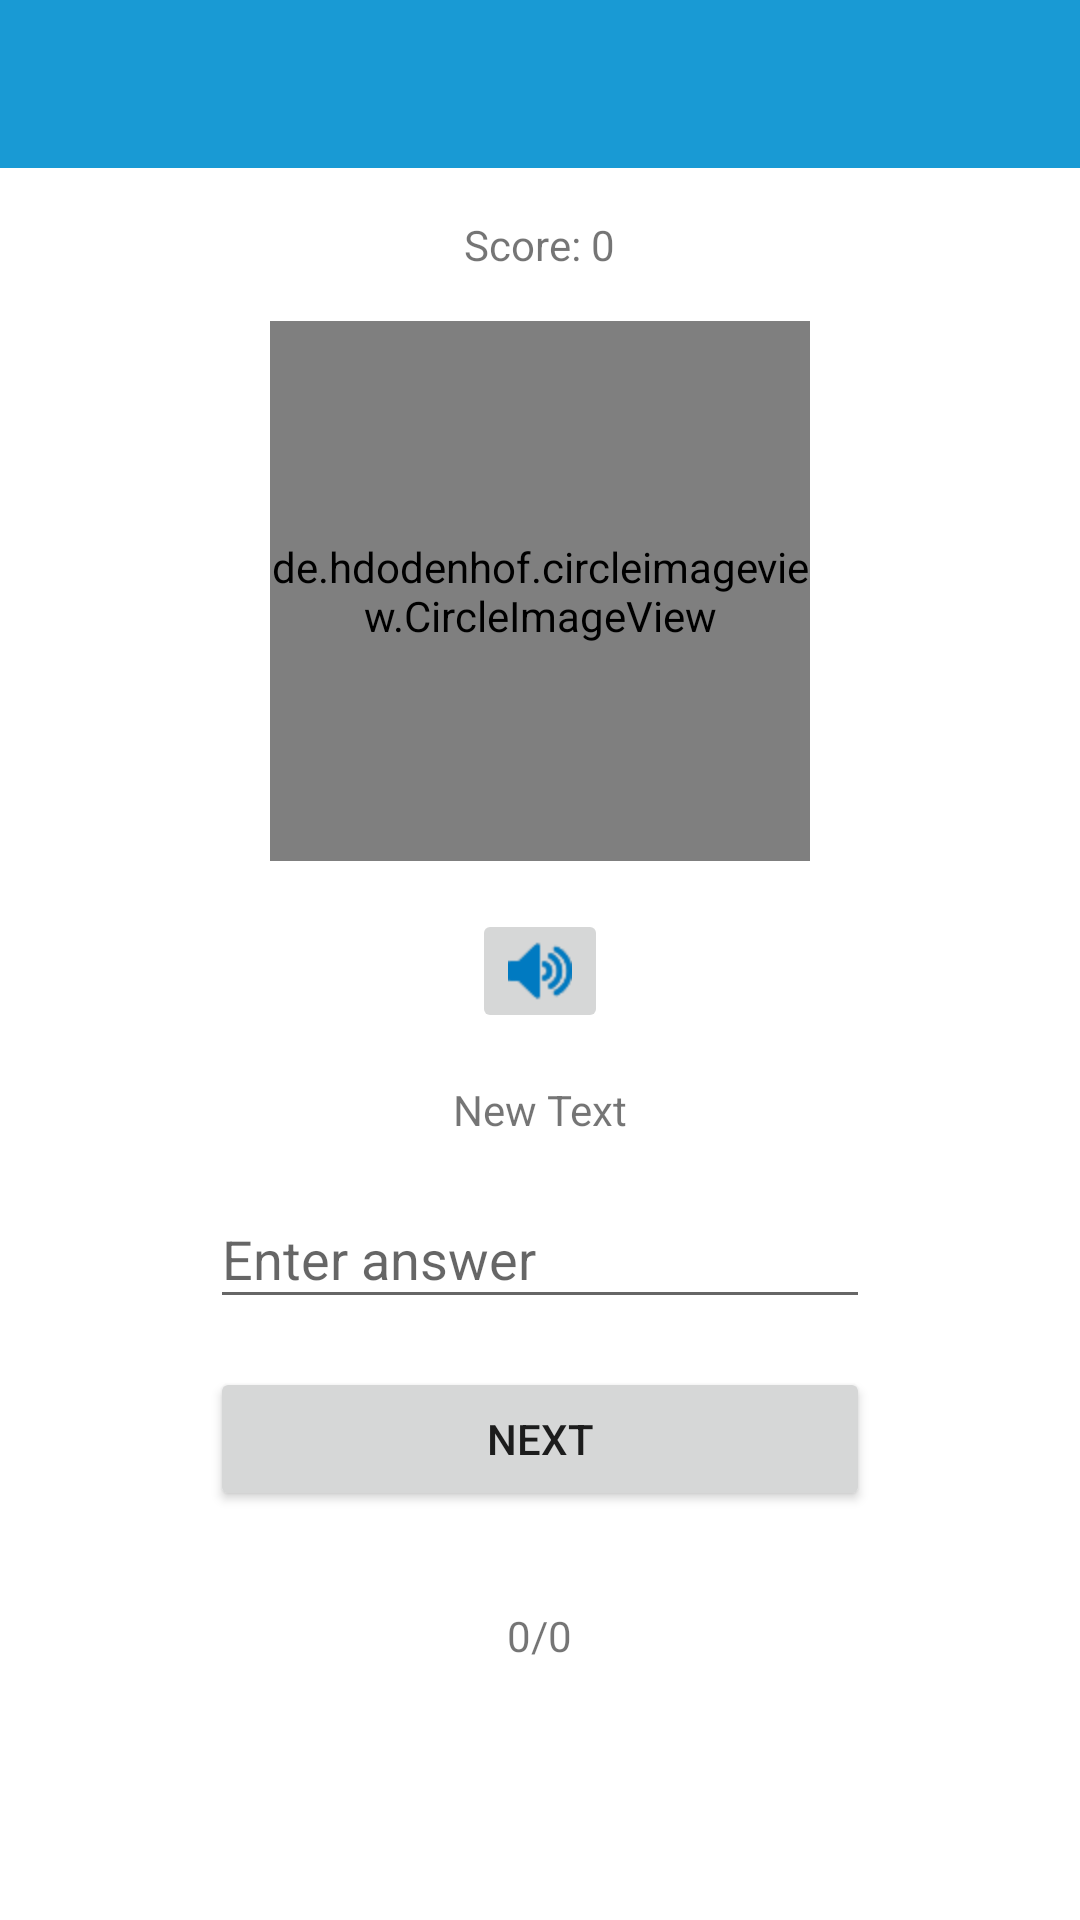

Named icons in this screenshot (1080px×1920px) and their centers, [x,y]:
third volume: [540,971]
